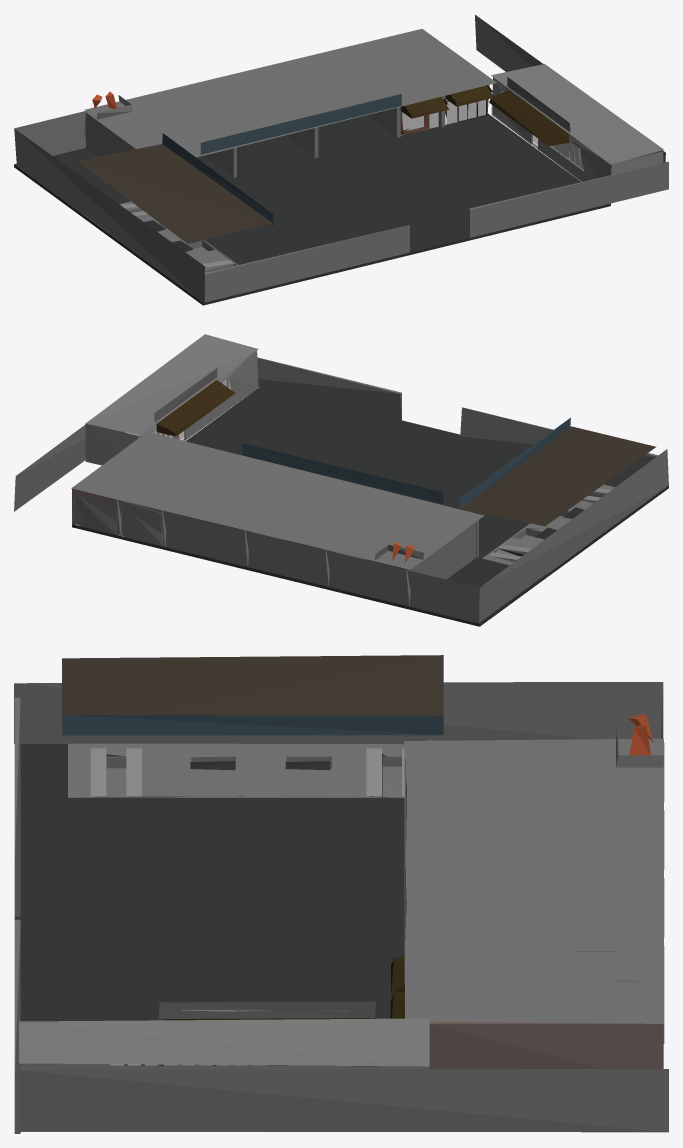
Rendered from car-wash.zfix-v3.lod2.glb.
3 views of the same model, one above another, from view 1: azimuth 30°, elevation 25°; view 2: azimuth 150°, elevation 25°; view 3: azimuth 270°, elevation 25° (orthographic). The views are drawn at different scales.
Parts seen in each view (by area): view 1: Cube.001_Baked_Cube.001_Baked.006_0; view 2: Cube.001_Baked_Cube.001_Baked.006_0; view 3: Cube.001_Baked_Cube.001_Baked.006_0.
Boxes of the visible parts, left/top/right/bottom form: Cube.001_Baked_Cube.001_Baked.006_0: left=14, top=15, right=668, bottom=305; Cube.001_Baked_Cube.001_Baked.006_0: left=14, top=334, right=668, bottom=626; Cube.001_Baked_Cube.001_Baked.006_0: left=14, top=655, right=668, bottom=1133.
Size of the model in its own units: 56 by 7.42 by 39.63.
